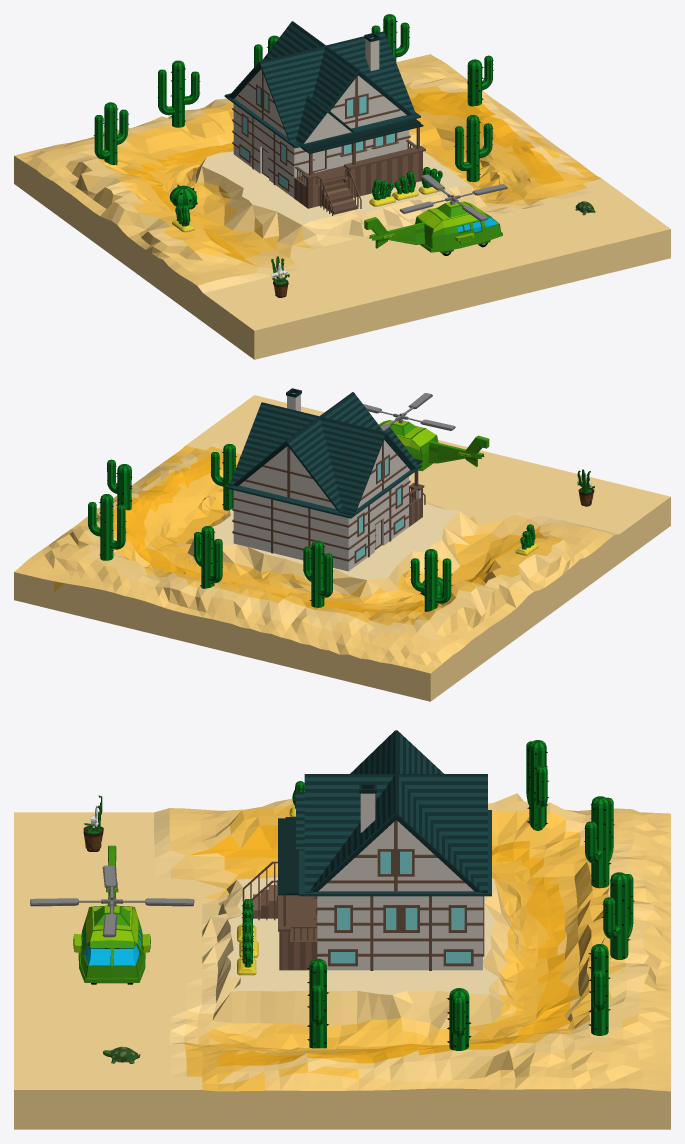
The picture shows the model from 3 angles, top to bottom: view 1: azimuth 30°, elevation 25°; view 2: azimuth 150°, elevation 25°; view 3: azimuth 270°, elevation 25°; orthographic projection. The views are drawn at different scales.
Visible parts, largest first — view 1: Cube.001, Cube.793, VEHICLES_HELICOPTER, Cylinder.037, Cylinder.044, Cylinder.045, Cylinder.038, Cylinder.042, Cylinder.039, OBJRANDOM_MONJA BLANCA, Sphere.023, Cylinder.040; view 2: Cube.001, Cube.793, VEHICLES_HELICOPTER, Cylinder.042, Cylinder.045, Cylinder.044, Cylinder.043, Cylinder.037, Cylinder.038; view 3: Cube.001, Cube.793, VEHICLES_HELICOPTER, Cylinder.043, Cylinder.044, Cylinder.045, Cylinder.042, Cylinder.037, Cylinder.038, OBJRANDOM_MONJA BLANCA, Cylinder.041.
Boxes of the visible parts, x1=… form: Cube.001: x1=14, y1=54, x2=670, y2=359; Cube.793: x1=224, y1=21, x2=425, y2=215; VEHICLES_HELICOPTER: x1=364, y1=174, x2=507, y2=255; Cylinder.037: x1=454, y1=115, x2=493, y2=182; Cylinder.044: x1=157, y1=60, x2=200, y2=127; Cylinder.045: x1=93, y1=102, x2=129, y2=164; Cylinder.038: x1=467, y1=55, x2=493, y2=106; Cylinder.042: x1=371, y1=14, x2=409, y2=62; Cylinder.039: x1=369, y1=179, x2=395, y2=206; OBJRANDOM_MONJA BLANCA: x1=271, y1=256, x2=289, y2=297; Sphere.023: x1=169, y1=184, x2=197, y2=209; Cylinder.040: x1=392, y1=171, x2=418, y2=200; Cube.001: x1=14, y1=395, x2=670, y2=701; Cube.793: x1=225, y1=388, x2=425, y2=571; VEHICLES_HELICOPTER: x1=363, y1=393, x2=489, y2=471; Cylinder.042: x1=88, y1=494, x2=126, y2=560; Cylinder.045: x1=410, y1=549, x2=452, y2=611; Cylinder.044: x1=303, y1=540, x2=333, y2=607; Cylinder.043: x1=193, y1=526, x2=222, y2=588; Cylinder.037: x1=211, y1=444, x2=240, y2=510; Cylinder.038: x1=107, y1=459, x2=131, y2=510; Cube.001: x1=14, y1=793, x2=670, y2=1129; Cube.793: x1=242, y1=730, x2=491, y2=970; VEHICLES_HELICOPTER: x1=30, y1=845, x2=194, y2=984; Cylinder.043: x1=602, y1=872, x2=634, y2=959; Cylinder.044: x1=584, y1=796, x2=614, y2=888; Cylinder.045: x1=526, y1=740, x2=548, y2=830; Cylinder.042: x1=588, y1=944, x2=610, y2=1035; Cylinder.037: x1=307, y1=958, x2=328, y2=1048; Cylinder.038: x1=447, y1=988, x2=471, y2=1050; OBJRANDOM_MONJA BLANCA: x1=83, y1=795, x2=103, y2=851; Cylinder.041: x1=237, y1=932, x2=256, y2=975.
Size of the model in its own units: 4002 by 1627 by 4001.
32 materials, 3 textured.
